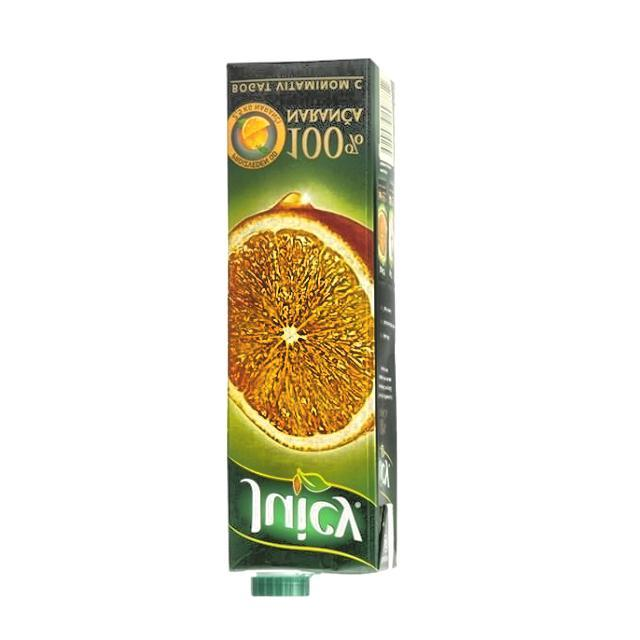cardboard: (225, 59, 398, 596)
